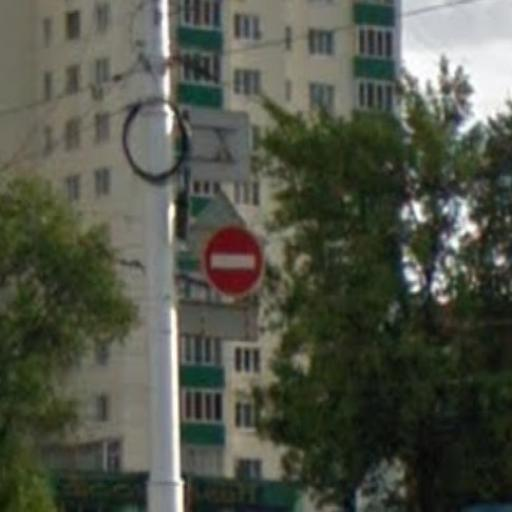traffic_sign: (201, 221, 268, 302)
